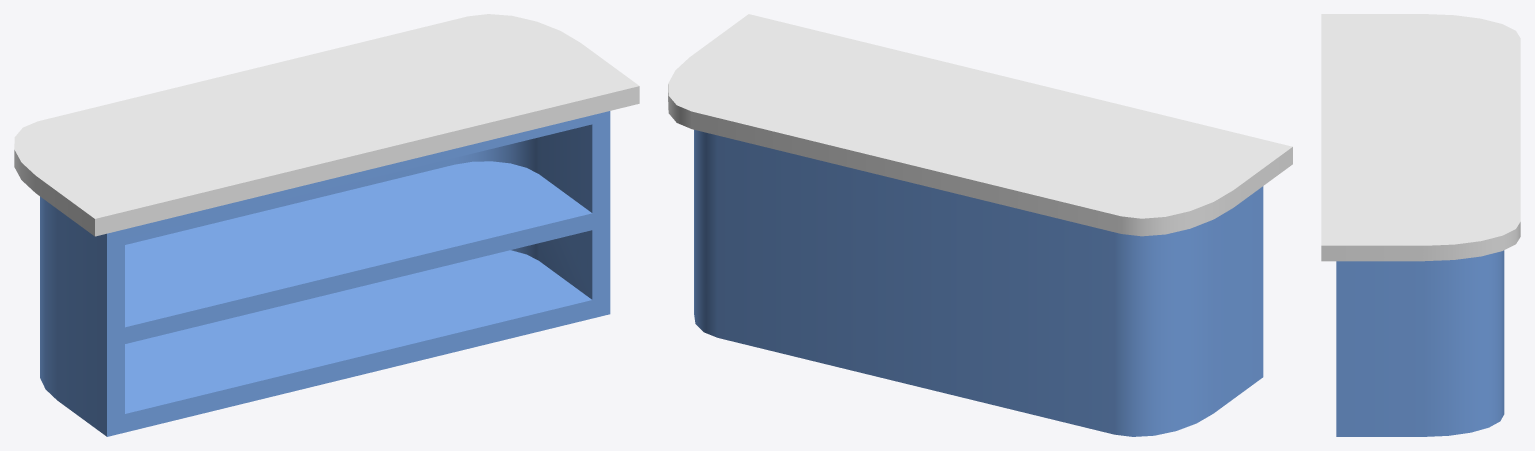
File: Booth 02 Meja.fbx
3 renders of one model, left to right at view 1: azimuth 30°, elevation 25°; view 2: azimuth 150°, elevation 25°; view 3: azimuth 270°, elevation 25°, orthographic. The views are drawn at different scales.
Parts seen in each view (by area): view 1: Meja; view 2: Meja; view 3: Meja.
Part boxes in pixels (left/top/right/bottom): Meja: left=14, top=14, right=639, bottom=436; Meja: left=668, top=14, right=1292, bottom=436; Meja: left=1321, top=14, right=1520, bottom=436.
Size of the model in its own units: 199 by 79.99 by 72.25.
